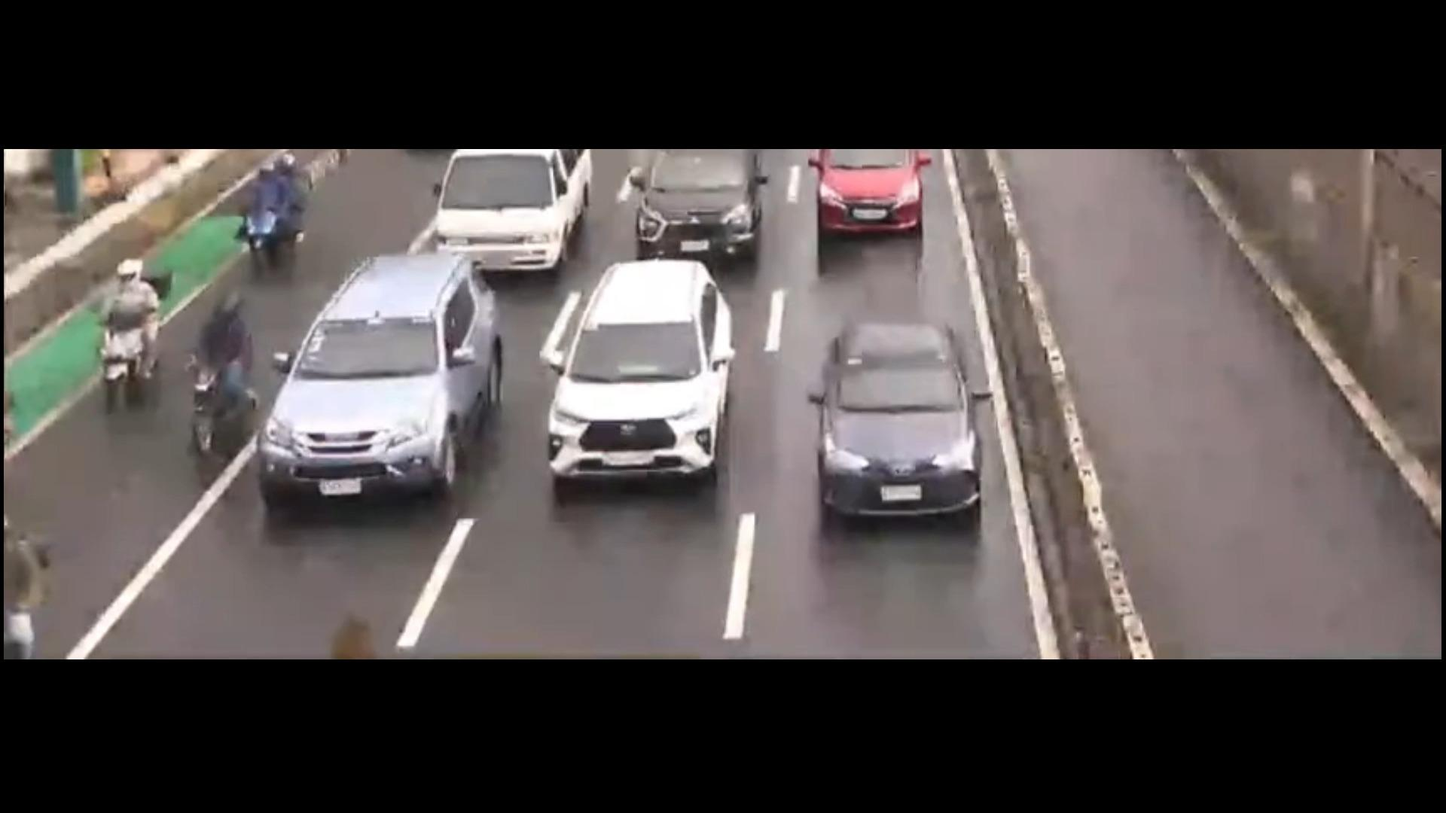Motorcycle: (67, 249, 177, 414), (171, 292, 275, 464), (213, 151, 337, 285)
SUV: (506, 249, 757, 521), (259, 254, 514, 505), (635, 153, 774, 270)
Sedan: (802, 309, 1002, 533)
Van: (388, 143, 614, 270)
